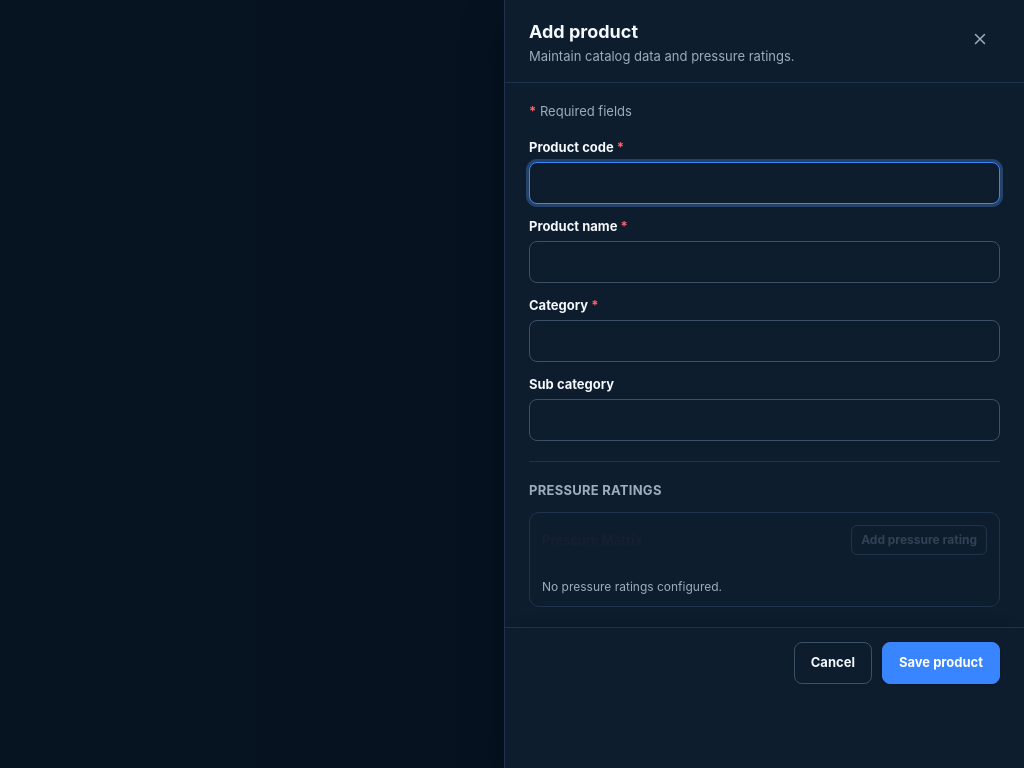
Test: Product form on the shared form system › refuses an empty save with the error on its field, the first gap focused and a summary link
The image size is (1024, 768).
Click the button "Save product" at (941, 663), box [882,642,1000,684]
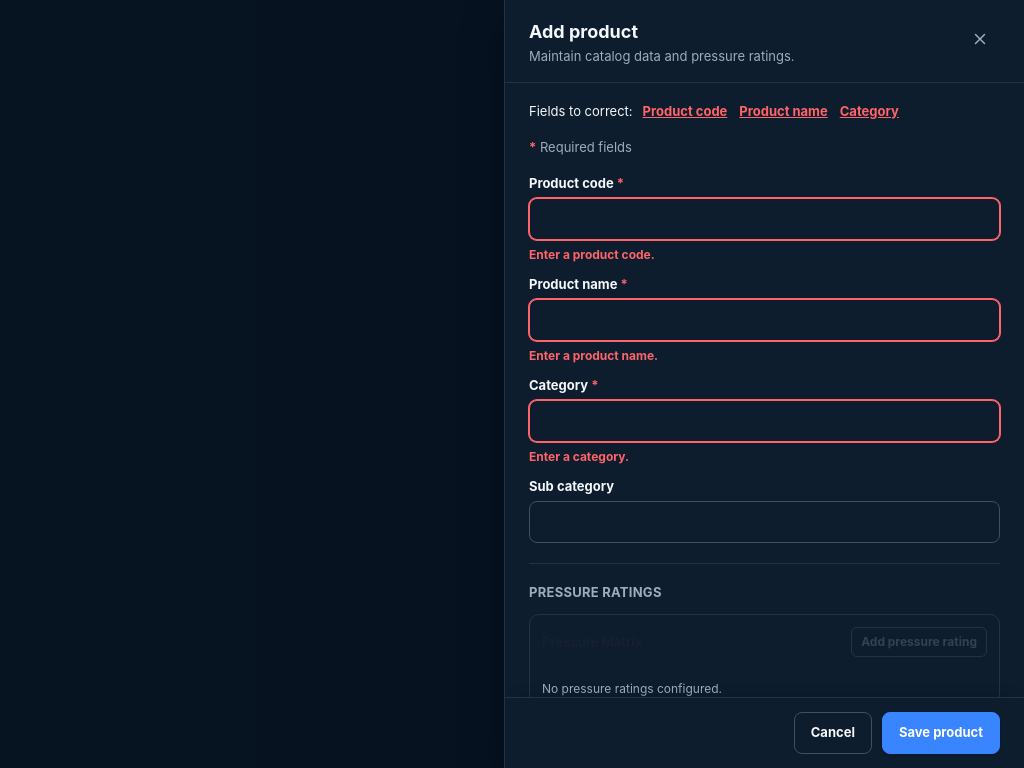
Expected: the button "Product code" is shown, [643,103,727,119]
